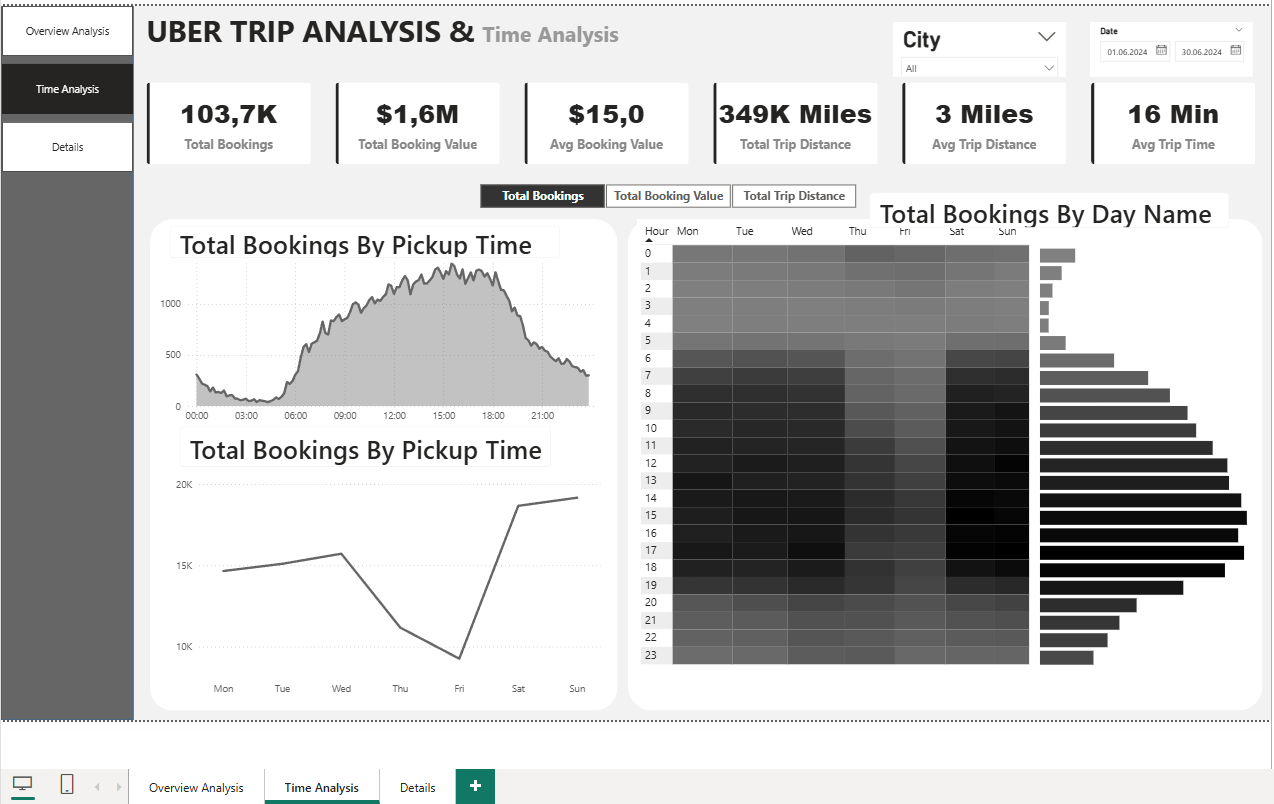

The dashboard page shown, as its layout file describes it:
{"tool":"powerbi","page":{"name":"Time Analysis","canvas":[1600,900],"ordinal":1},"visuals":[{"type":"shape","box":[0,0,167,900.1],"z":0},{"type":"textbox","box":[167,0,674.1,62.6],"z":1000},{"type":"cardVisual","fields":{"Data":["Trip Details.Total Bookings","Trip Details.Total Booking Amount","Trip Details.Avg Booking Amount","Trip Details.Total Trip Distance","Trip Details.Avg Trip Distance","Trip Details.Avg Trip Time"]},"box":[166.5,79.9,1433.5,137.2],"z":2000},{"type":"shape","box":[187.8,267.8,588.8,619.5],"z":3000},{"type":"slicer","fields":{"Values":["Dynamic Measure.Dynamic Measure"]},"box":[578.8,217.4,523.3,42],"z":4000},{"type":"slicer","fields":{"Values":["Calendar Table.Date"]},"box":[1372.2,20,205.2,69.3],"z":5000},{"type":"slicer","fields":{"Values":["Location Table.City"]},"box":[1124.4,20,218.5,69.3],"z":6000},{"type":"areaChart","fields":{"Category":["Trip Details.Pickup Hour HH MM SS (bins)"],"Y":["Trip Details.Total Bookings"]},"box":[195.5,309.7,565.2,224.1],"z":7000},{"type":"cardVisual","fields":{"Data":["Trip Details.Title for Pickup Time"]},"box":[195.5,259.8,526.7,75.6],"z":8000},{"type":"lineChart","fields":{"Category":["Calendar Table.Day Name"],"Y":["Trip Details.Total Bookings"]},"box":[215.5,588,545.2,289.7],"z":9000},{"type":"cardVisual","fields":{"Data":["Trip Details.Title for Pickup Time"]},"box":[208.4,512.4,502.4,85.6],"z":10000},{"type":"shape","box":[790.3,268.4,799.3,619.3],"z":11000},{"type":"pivotTable","fields":{"Columns":["Calendar Table.Day Name"],"Rows":["Trip Details.Pickup Hour"],"Values":["Trip Details.Total Bookings"]},"box":[801.3,268.4,502.6,605.3],"z":12000},{"type":"barChart","fields":{"Category":["Trip Details.Pickup Hour"],"Y":["Trip Details.Total Bookings"]},"box":[1303.9,292.1,273.7,565],"z":13000},{"type":"cardVisual","fields":{"Data":["Trip Details.Title for Day Name"]},"box":[1076.7,217.4,487.3,79.5],"z":14000},{"type":"pageNavigator","box":[1.3,0,165.8,209.2],"z":14001}]}

Visuals, with their boxes on the page's 1600x900 design canvas (x1, y1, x2, y2). These are canvas units, not pixel positions in the 1274x804 screenshot, which may show the page scaled, cropped or inside an application window:
shape: region(0, 0, 167, 900)
textbox: region(167, 0, 841, 63)
cardVisual - Trip Details.Total Bookings x Trip Details.Total Booking Amount: region(166, 80, 1600, 217)
shape: region(188, 268, 777, 887)
slicer - Dynamic Measure.Dynamic Measure: region(579, 217, 1102, 259)
slicer - Calendar Table.Date: region(1372, 20, 1577, 89)
slicer - Location Table.City: region(1124, 20, 1343, 89)
areaChart - Trip Details.Pickup Hour HH MM SS (bins) x Trip Details.Total Bookings: region(196, 310, 761, 534)
cardVisual - Trip Details.Title for Pickup Time: region(196, 260, 722, 335)
lineChart - Calendar Table.Day Name x Trip Details.Total Bookings: region(216, 588, 761, 878)
cardVisual - Trip Details.Title for Pickup Time: region(208, 512, 711, 598)
shape: region(790, 268, 1590, 888)
pivotTable - Calendar Table.Day Name x Trip Details.Pickup Hour: region(801, 268, 1304, 874)
barChart - Trip Details.Pickup Hour x Trip Details.Total Bookings: region(1304, 292, 1578, 857)
cardVisual - Trip Details.Title for Day Name: region(1077, 217, 1564, 297)
pageNavigator: region(1, 0, 167, 209)
